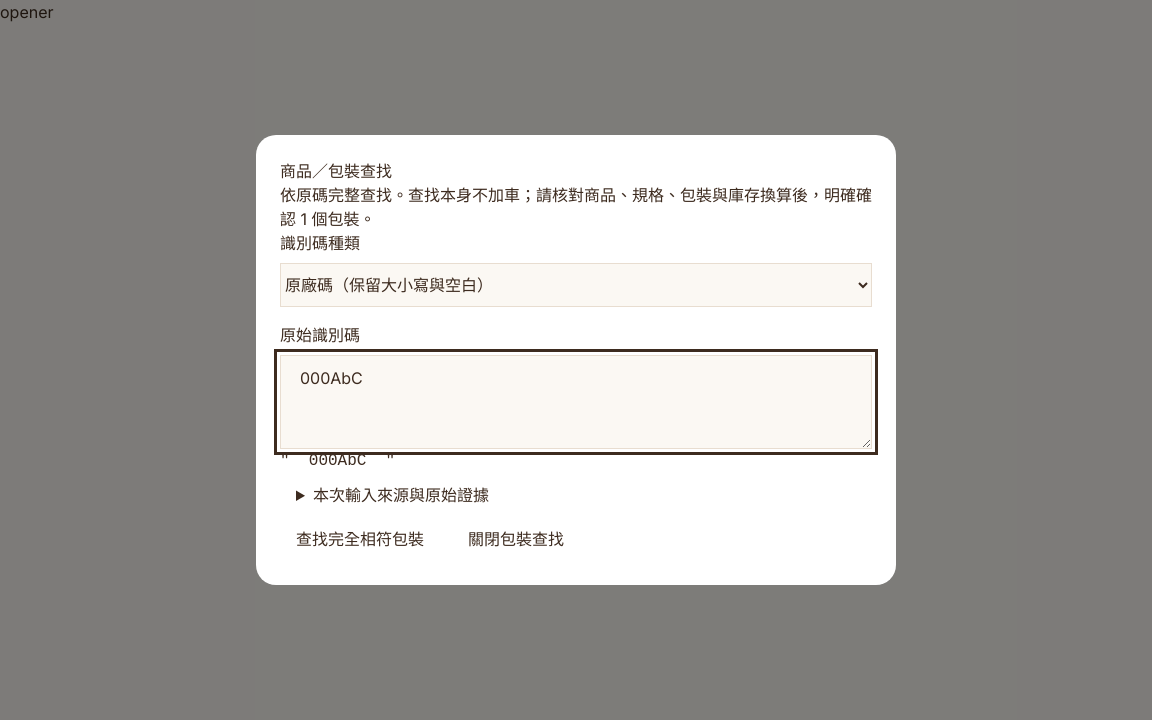
package lookup POS confirmation dialog › uses the edited literal and namespace exactly and refreshes candidates after edits
Click the button "查找完全相符包裝".
click(360, 539)  # box top-left (280, 517), bottom-right (440, 561)
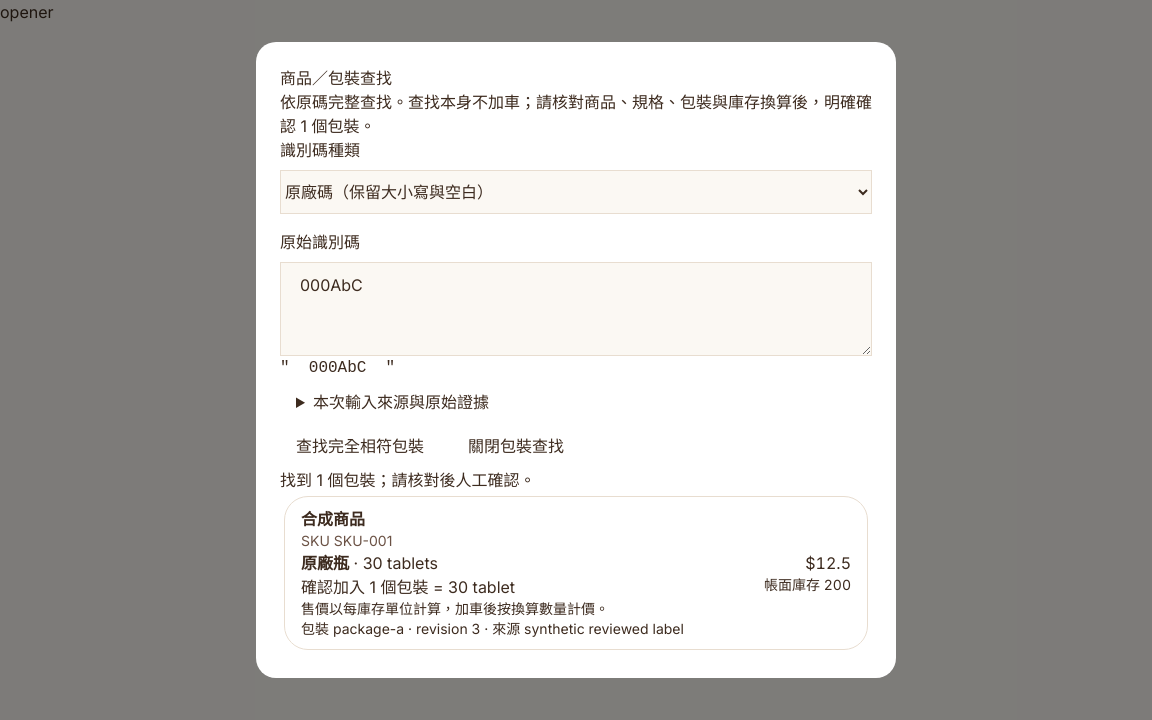
Check: the button "原廠瓶" is shown, box top-left (284, 496), bottom-right (868, 650)
Select "GTIN（完整數字與校驗位）" in the dropdown labelled "識別碼種類" at (576, 192), box top-left (280, 170), bottom-right (872, 214)
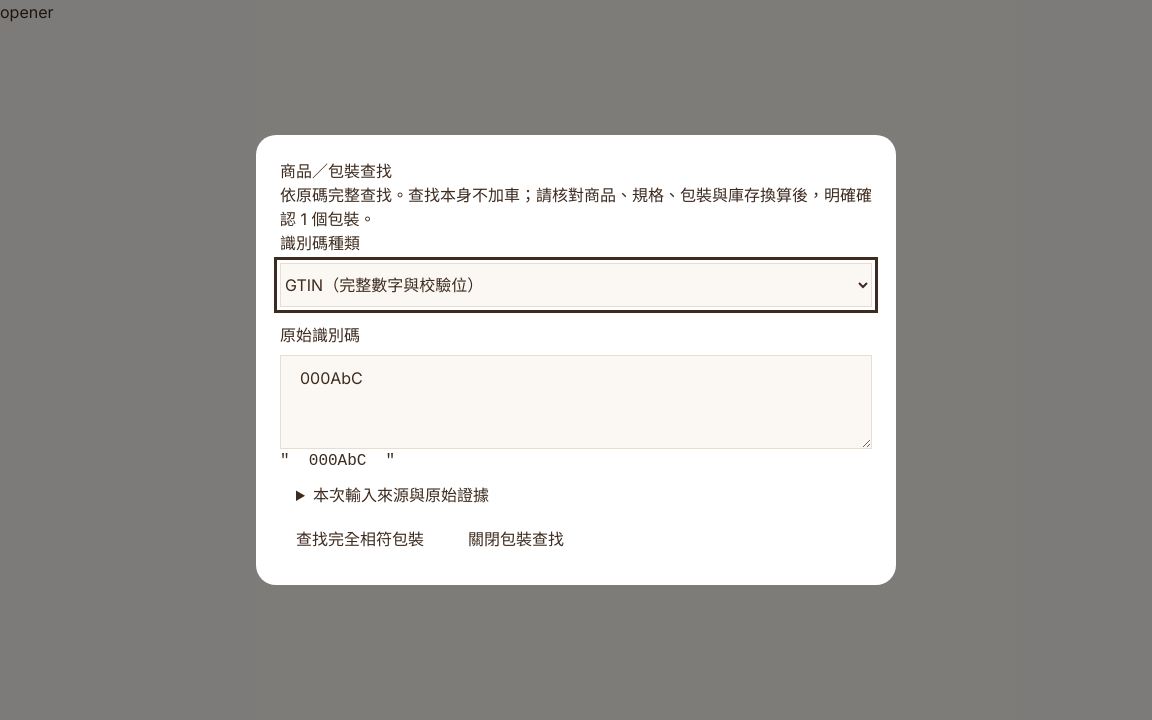
Check: the button "原廠瓶" is gone
Replace the text in the text box labelled "原始識別碼" with "00036000291452" at (576, 402), box top-left (280, 355), bottom-right (872, 449)
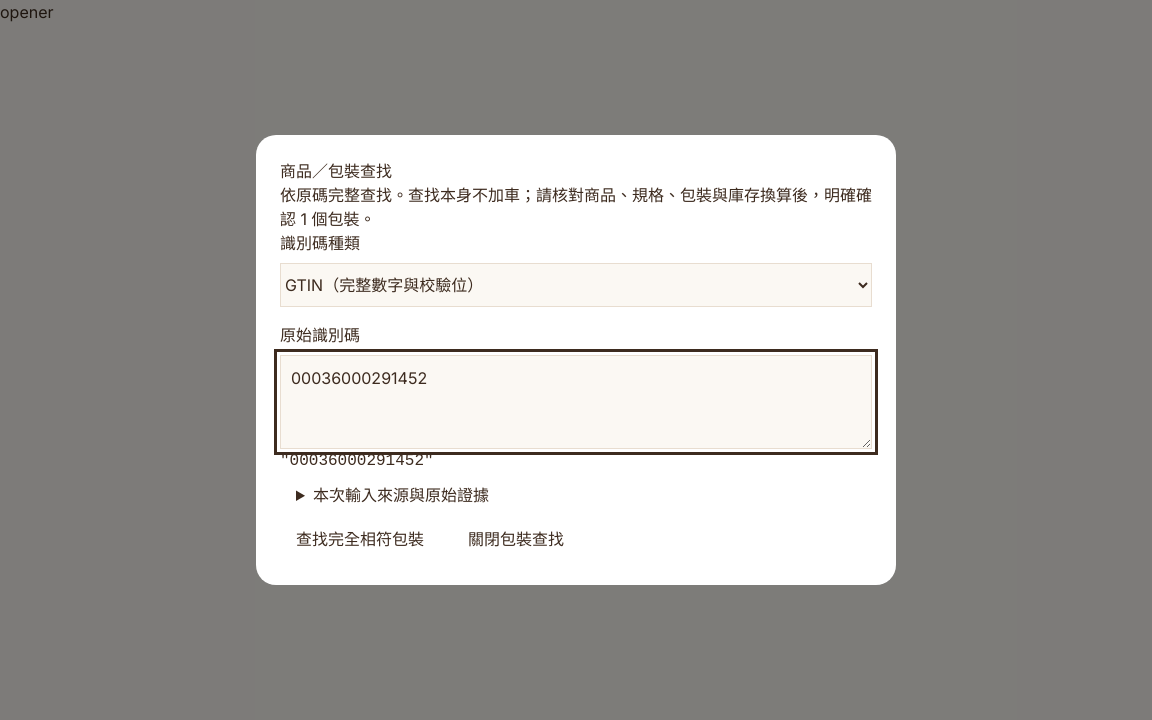
Click the button "查找完全相符包裝".
click(360, 539)  # box top-left (280, 517), bottom-right (440, 561)
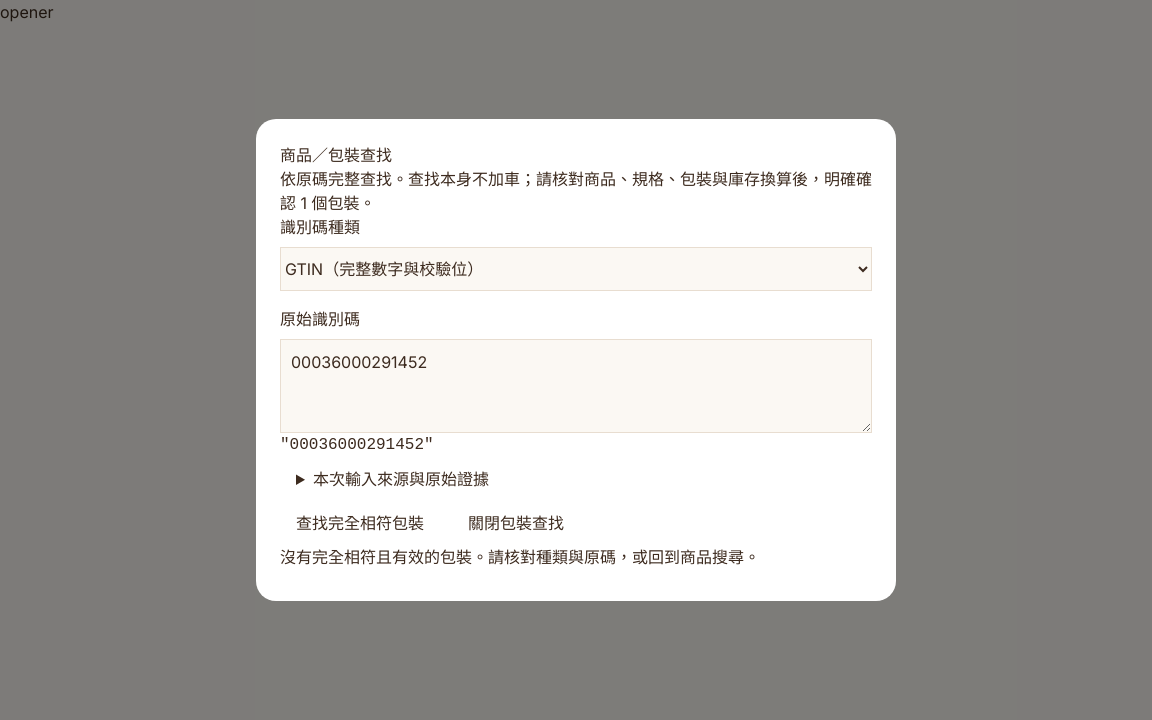
Check: the message shows "沒有完全相符", box top-left (280, 547), bottom-right (760, 567)
